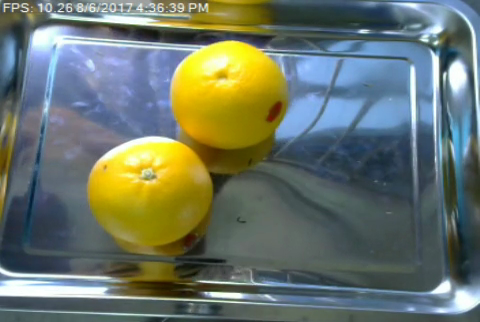Orange: (87, 134, 214, 244), (167, 41, 289, 149)
